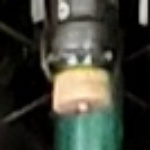bottle: (27, 27, 133, 128)
